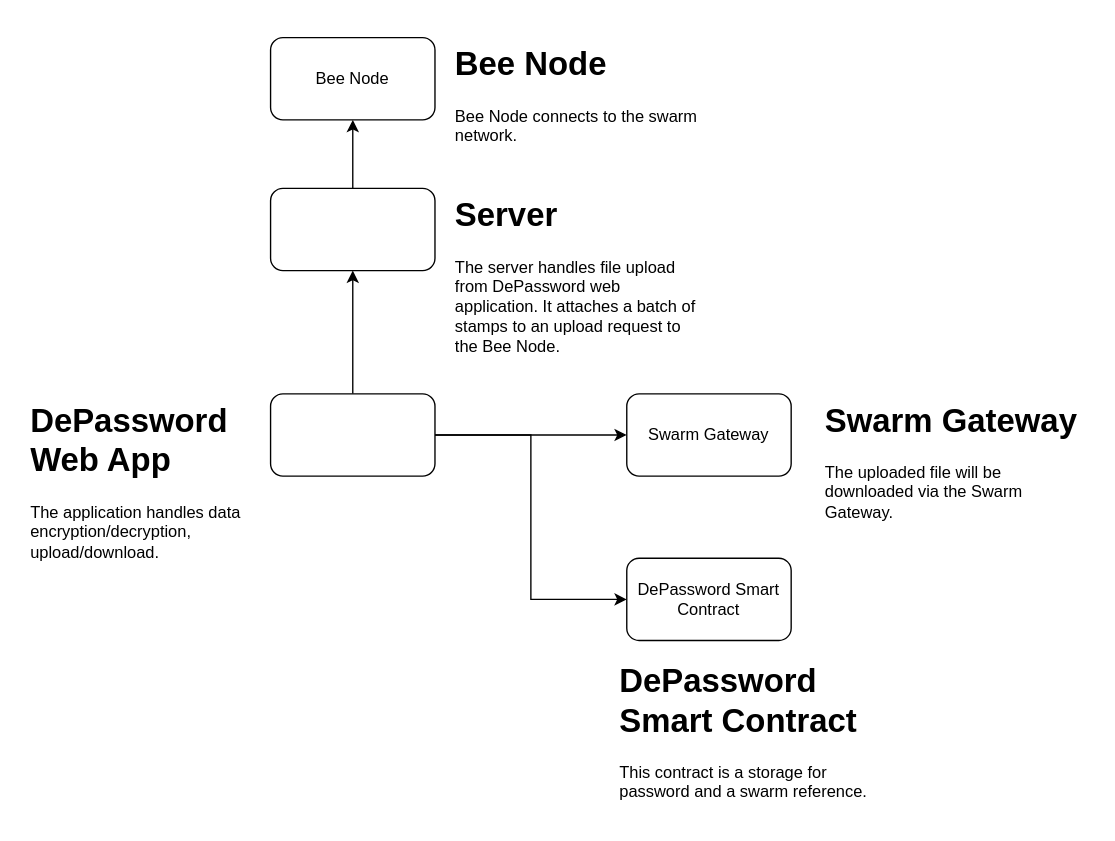
Some shapes in this 1115 by 841 pixel diagram are drawn without their labels. The shapes that lost their labels are listed below. From the top down, each one's box as (x1, y1, x2, y2) in pixels, then its label:
(269, 187, 435, 271): Server
(269, 393, 435, 476): DePassword Web App
